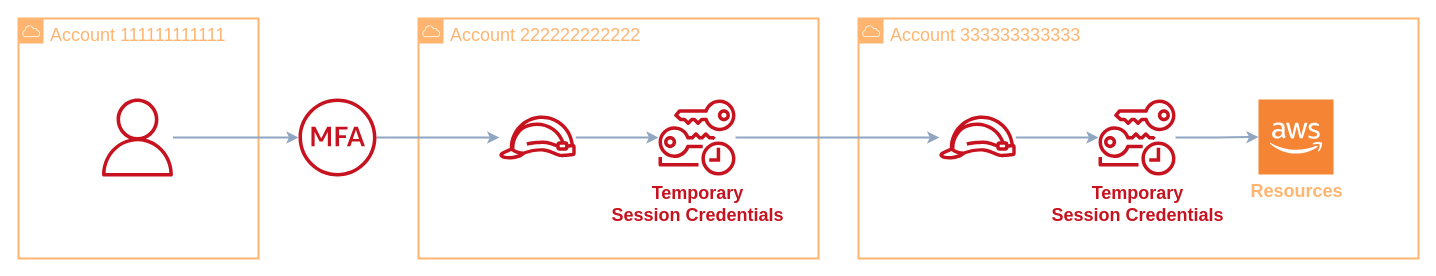
This 1436x276 diagram has some shape labels left out. Here are the shapes that lost their labels. From the top down, the centre of each, then its label:
(x=137, y=137): MyUser
(x=537, y=137): MyRole
(x=977, y=137): FinalRole
